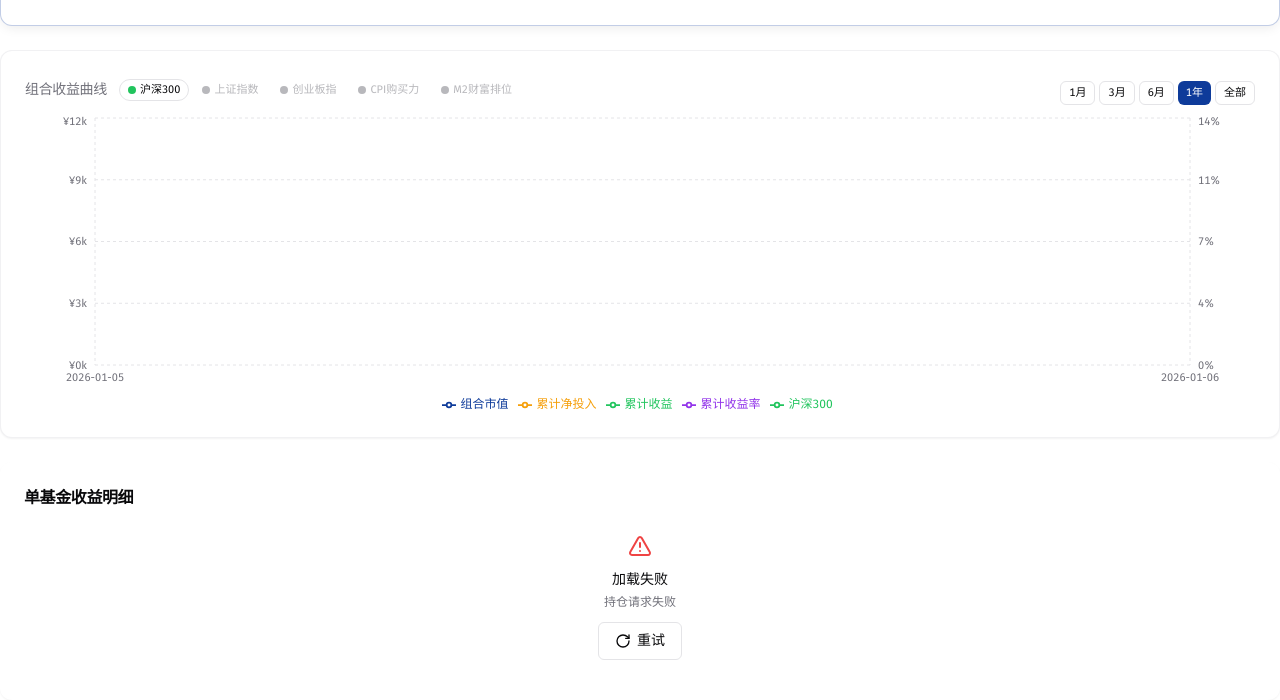
Test: Returns › 持仓失败时不能伪装成「暂无持仓数据」，重试可恢复
(page scrolled)
expect the text "持仓请求失败" is shown: met, box 604,594 -> 676,610
Click the button "重试" at (640, 641), box 598,622 -> 682,660
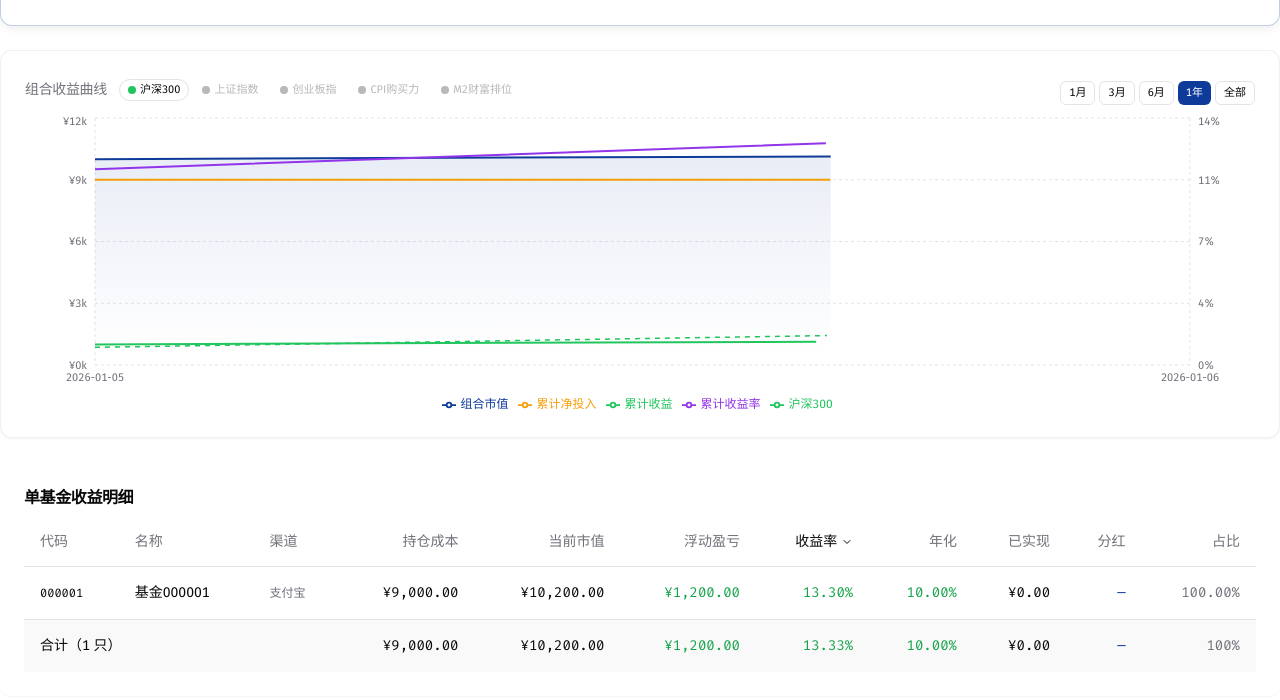
expect the text "基金000001" is shown: met, box 135,584 -> 210,600
expect the text "持仓请求失败" is gone: met
